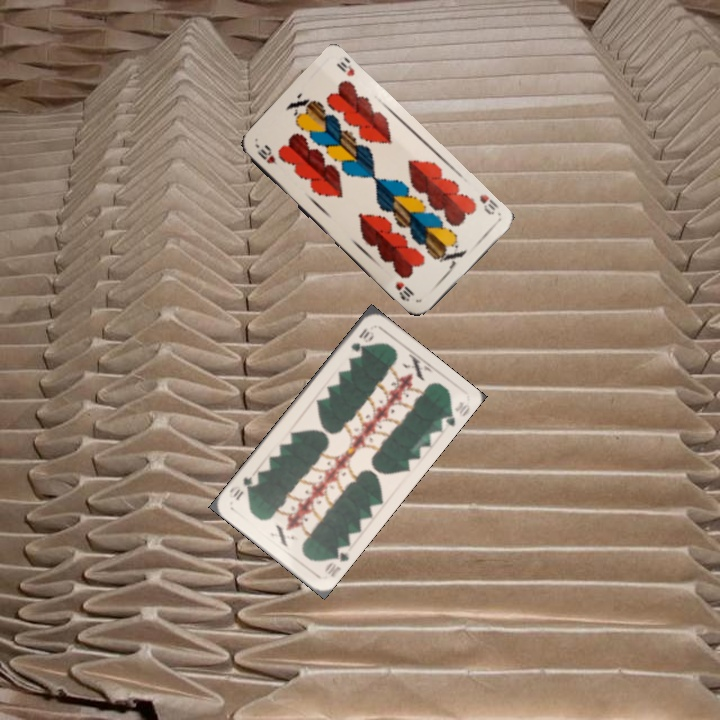G10: (320, 542, 352, 580), (347, 323, 376, 354)
H10: (475, 190, 500, 217), (253, 145, 280, 168)
